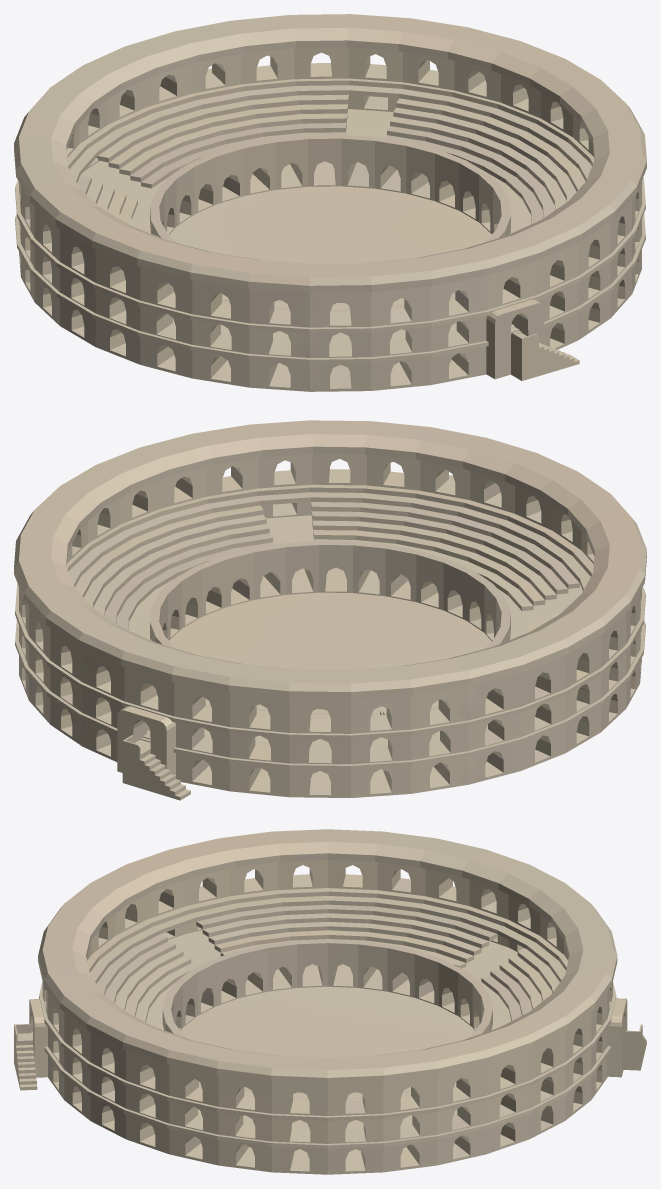
Rendered from colosseum.glb.
The picture shows the model from 3 angles, top to bottom: view 1: azimuth 30°, elevation 25°; view 2: azimuth 150°, elevation 25°; view 3: azimuth 270°, elevation 25°; orthographic projection. The views are drawn at different scales.
Parts seen in each view (by area): view 1: Coliseum; view 2: Coliseum; view 3: Coliseum.
Part boxes in pixels (<box>): Coliseum: <box>14,14,646,391</box>; Coliseum: <box>14,420,646,800</box>; Coliseum: <box>14,829,646,1174</box>.
Size of the model in its own units: 3.47 by 0.6924 by 3.79.
1 material, 1 textured.
